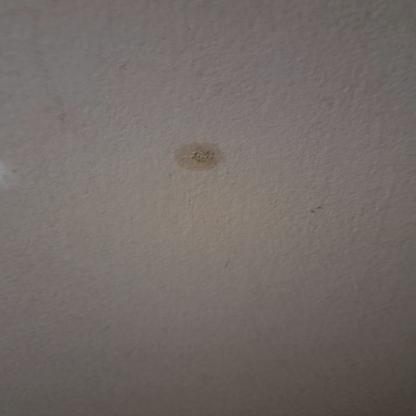spot: (162, 133, 228, 179)
